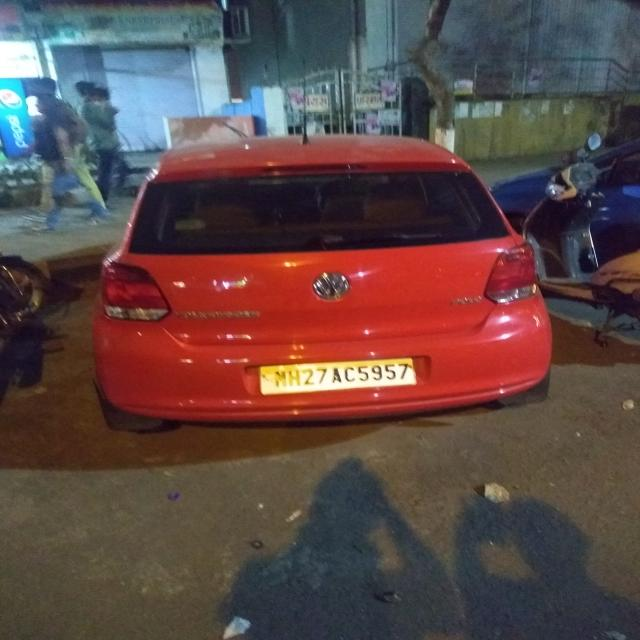Number-Plate: (261, 357, 415, 397)
